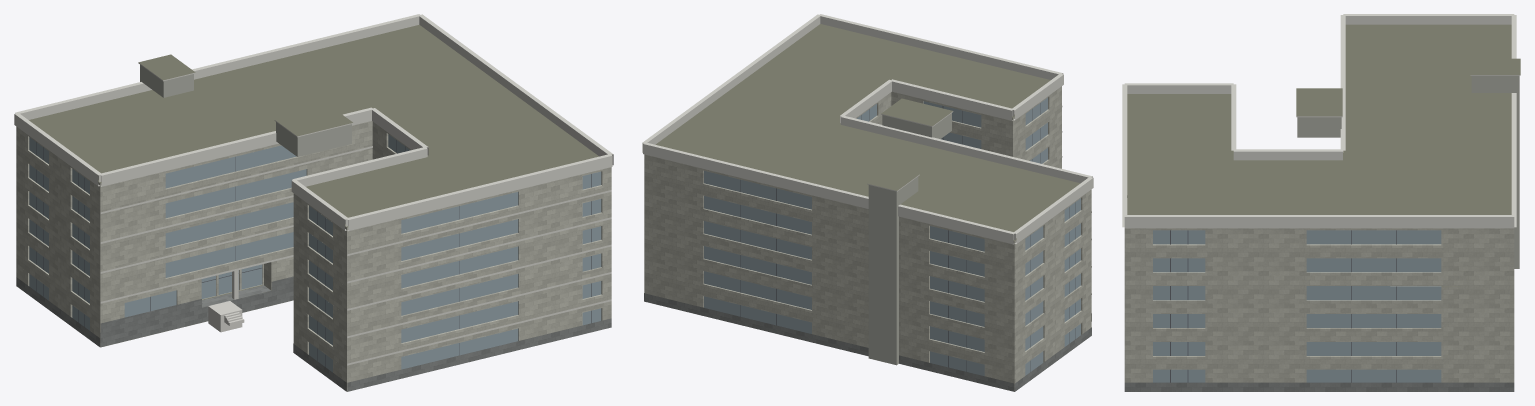
3 renders of one model, left to right at view 1: azimuth 30°, elevation 25°; view 2: azimuth 150°, elevation 25°; view 3: azimuth 270°, elevation 25°, orthographic. The views are drawn at different scales.
Visible parts, largest first — view 1: b57_1__wall, b57_1__roof, b57_1__glass, b57_1__trim, b57_1__base, b57_1__wall2, b57_1__entranceStair, b57_1__frame; view 2: b57_1__wall, b57_1__roof, b57_1__glass, b57_1__trim, b57_1__wall2, b57_1__base, b57_1__frame; view 3: b57_1__roof, b57_1__wall, b57_1__glass, b57_1__trim, b57_1__base, b57_1__wall2, b57_1__frame.
Part boxes in pixels (x1,y1,x2,y2): b57_1__wall: (16, 121, 611, 391); b57_1__roof: (29, 24, 598, 346); b57_1__glass: (29, 134, 601, 372); b57_1__trim: (14, 14, 613, 365); b57_1__base: (16, 276, 611, 391); b57_1__wall2: (140, 65, 351, 156); b57_1__entranceStair: (208, 301, 244, 332); b57_1__frame: (36, 140, 591, 366); b57_1__wall: (644, 86, 1091, 391); b57_1__roof: (655, 24, 1080, 241); b57_1__glass: (704, 97, 1080, 376); b57_1__trim: (642, 14, 1093, 294); b57_1__wall2: (868, 113, 951, 365); b57_1__base: (644, 293, 1091, 391); b57_1__frame: (740, 103, 1075, 371); b57_1__roof: (1127, 24, 1520, 286); b57_1__wall: (1124, 228, 1514, 382); b57_1__glass: (1153, 230, 1441, 382); b57_1__trim: (1122, 14, 1520, 228); b57_1__base: (1124, 382, 1514, 391); b57_1__wall2: (1297, 75, 1519, 268); b57_1__frame: (1170, 230, 1396, 382).
Bounding box in the file's own units: 56.2 × 25.41 × 46.64.
10 materials, 2 textured.
